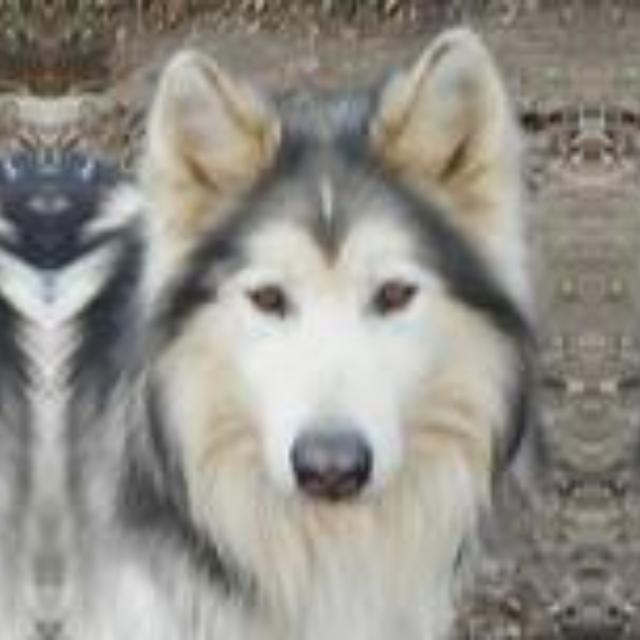dog: (49, 1, 592, 635), (591, 1, 640, 635), (0, 1, 47, 635)
